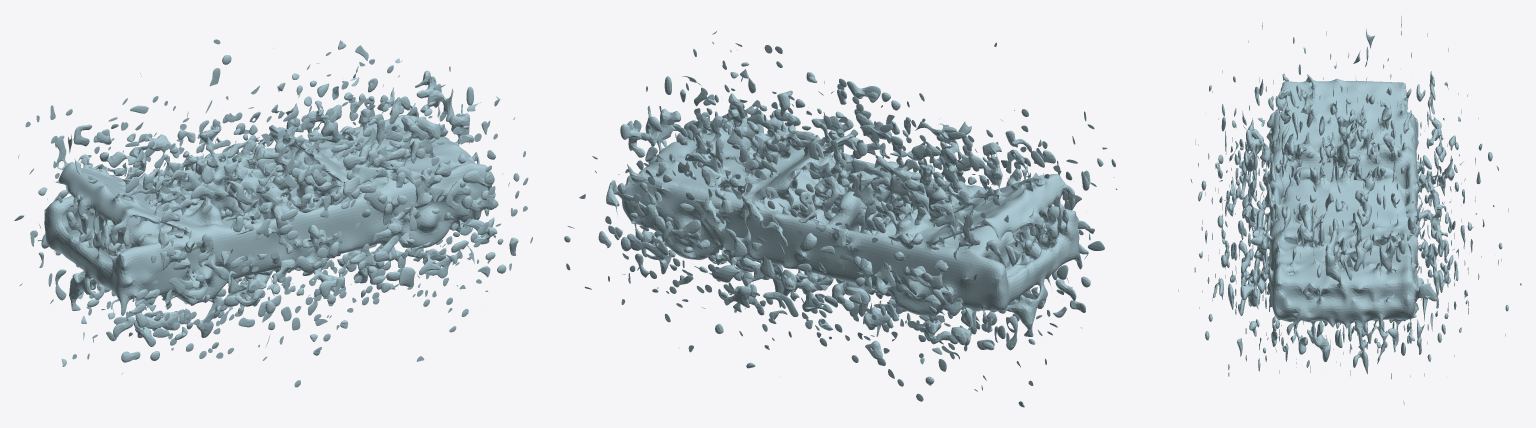
The model's file is geoudf_long_car.glb.
3 renders of one model, left to right at view 1: azimuth 30°, elevation 25°; view 2: azimuth 150°, elevation 25°; view 3: azimuth 270°, elevation 25°, orthographic. The views are drawn at different scales.
Parts seen in each view (by area): view 1: geoudf_long_car.ply; view 2: geoudf_long_car.ply; view 3: geoudf_long_car.ply.
Part boxes in pixels (<box>): geoudf_long_car.ply: <box>14,39,532,387</box>; geoudf_long_car.ply: <box>564,31,1117,407</box>; geoudf_long_car.ply: <box>1178,16,1521,405</box>.
Size of the model in its own units: 0.9814 by 0.7374 by 0.8814.
